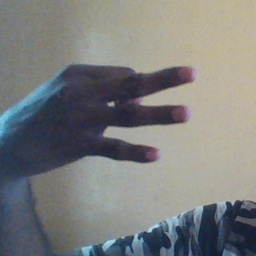K: (21, 59, 206, 181)
